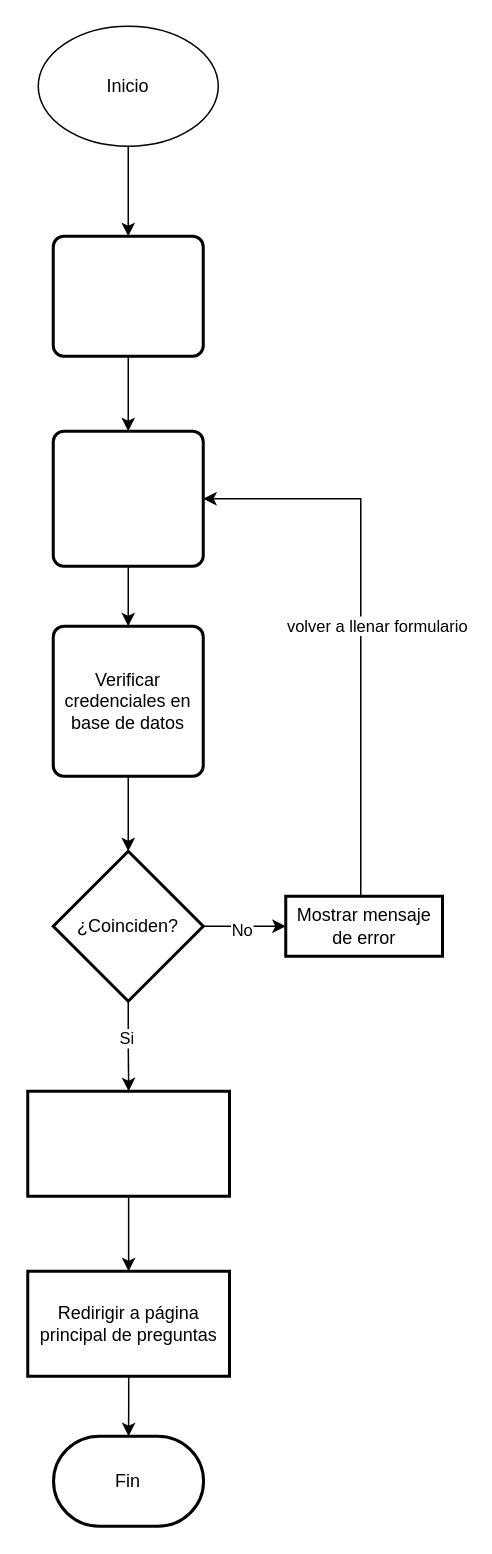
Image size: 492x1554. Some labels were removed from this diagram. The shapes that lost their labels are listed below. From the top down, each one's centre as x and y in pixels, then its label:
pixel 127 295: Mostrar formulario de login
pixel 127 498: Usuario ingresa email y contraseña
pixel 128 1143: Crear sesión con Flask-Login
